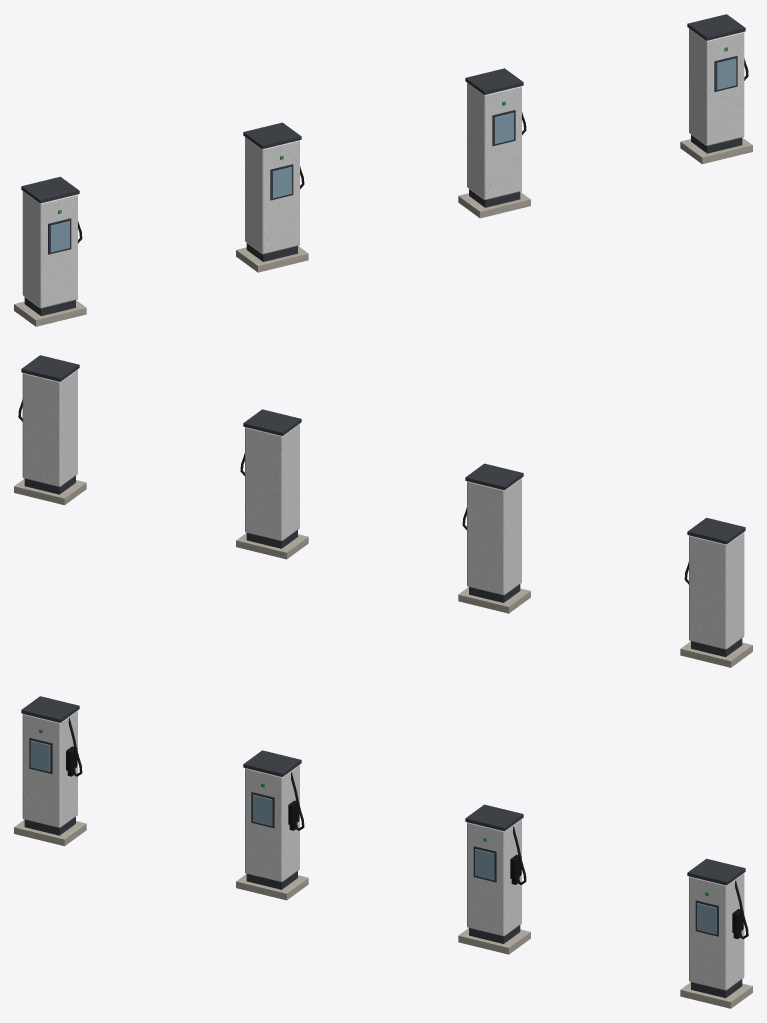
The model's file is ch-piles.glb.
The picture shows the model from 3 angles, top to bottom: view 1: azimuth 30°, elevation 25°; view 2: azimuth 150°, elevation 25°; view 3: azimuth 330°, elevation 25°; orthographic projection.
Visible parts, largest first — view 1: ch-piles_p4_body, ch-piles_p1_body, ch-piles_p2_body, ch-piles_p3_body, ch-piles_p2_cap, ch-piles_p4_cap, ch-piles_p1_cap, ch-piles_p3_cap, ch-piles_p3_plinth, ch-piles_p4_plinth, ch-piles_p1_plinth, ch-piles_p2_plinth (+4 smaller); view 2: ch-piles_p1_body, ch-piles_p4_body, ch-piles_p2_body, ch-piles_p3_body, ch-piles_p2_cap, ch-piles_p4_cap, ch-piles_p1_cap, ch-piles_p3_cap, ch-piles_p3_plinth, ch-piles_p4_plinth, ch-piles_p1_plinth, ch-piles_p2_plinth; view 3: ch-piles_p1_body, ch-piles_p4_body, ch-piles_p2_body, ch-piles_p3_body, ch-piles_p1_cap, ch-piles_p3_cap, ch-piles_p2_cap, ch-piles_p4_cap, ch-piles_p2_plinth, ch-piles_p1_plinth, ch-piles_p4_plinth, ch-piles_p3_plinth (+4 smaller).
Part boxes in pixels (x1,y1,x2,y2): ch-piles_p4_body: (689, 28, 744, 145); ch-piles_p1_body: (22, 191, 77, 308); ch-piles_p2_body: (245, 137, 299, 254); ch-piles_p3_body: (467, 82, 521, 199); ch-piles_p2_cap: (243, 122, 301, 149); ch-piles_p4_cap: (687, 14, 745, 40); ch-piles_p1_cap: (21, 176, 79, 203); ch-piles_p3_cap: (465, 68, 523, 94); ch-piles_p3_plinth: (458, 192, 530, 218); ch-piles_p4_plinth: (680, 138, 752, 164); ch-piles_p1_plinth: (14, 300, 86, 326); ch-piles_p2_plinth: (236, 246, 308, 272); ch-piles_p1_body: (689, 532, 744, 649); ch-piles_p4_body: (22, 369, 77, 486); ch-piles_p2_body: (467, 478, 521, 595); ch-piles_p3_body: (245, 423, 299, 540); ch-piles_p2_cap: (465, 463, 523, 490); ch-piles_p4_cap: (21, 355, 79, 381); ch-piles_p1_cap: (687, 517, 745, 544); ch-piles_p3_cap: (243, 409, 301, 435); ch-piles_p3_plinth: (236, 533, 308, 559); ch-piles_p4_plinth: (14, 479, 86, 505); ch-piles_p1_plinth: (680, 641, 752, 667); ch-piles_p2_plinth: (458, 587, 530, 613); ch-piles_p1_body: (22, 710, 77, 827); ch-piles_p4_body: (689, 873, 744, 990); ch-piles_p2_body: (245, 764, 299, 881); ch-piles_p3_body: (467, 819, 521, 936); ch-piles_p1_cap: (21, 696, 79, 722); ch-piles_p3_cap: (465, 804, 523, 831); ch-piles_p2_cap: (243, 750, 301, 776); ch-piles_p4_cap: (687, 858, 745, 885); ch-piles_p2_plinth: (236, 874, 308, 900); ch-piles_p1_plinth: (14, 820, 86, 846); ch-piles_p4_plinth: (680, 982, 752, 1008); ch-piles_p3_plinth: (458, 928, 530, 954).
Bounding box in the file's own units: 11.4 × 1.87 × 0.6.
Materials: 7 (2 with a texture image).
